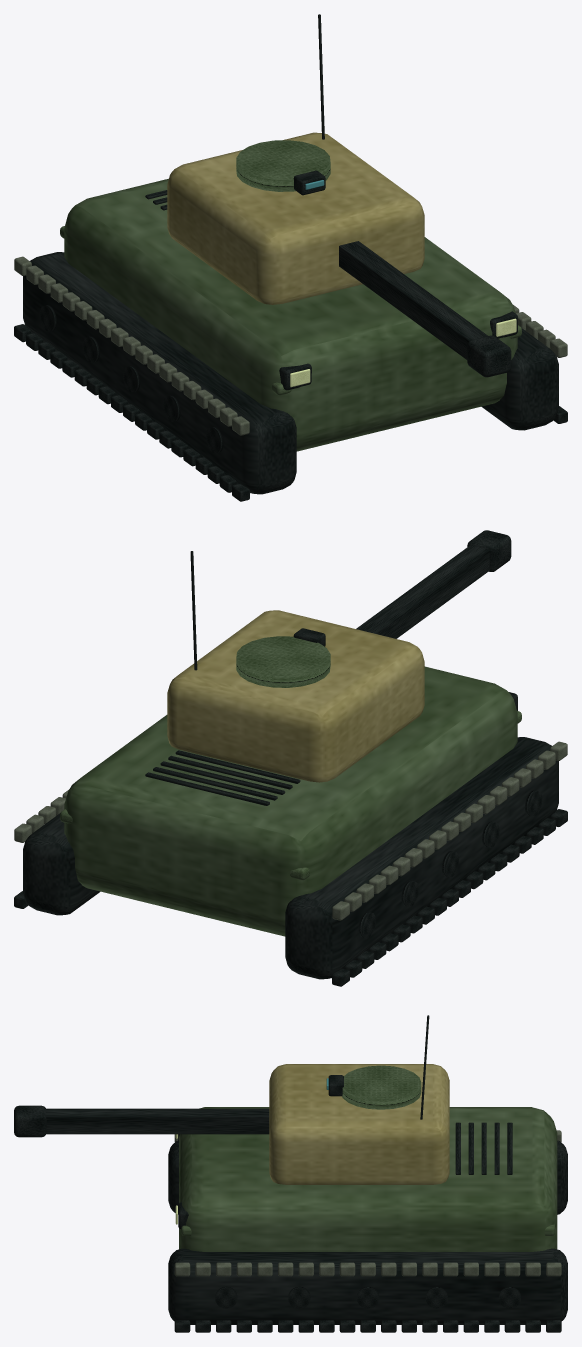
File: tank.glb
3 renders of one model, top to bottom at view 1: azimuth 30°, elevation 25°; view 2: azimuth 150°, elevation 25°; view 3: azimuth 270°, elevation 25°, orthographic. The views are drawn at different scales.
Parts seen in each view (by area): view 1: Hull, Turret, Track, Cannon, Track.001, Hatch, Muzzle brake; view 2: Hull, Turret, Track, Track.001, Cannon, Hatch, Muzzle brake, Engine grille.001, Engine grille.004, Engine grille.002, Engine grille.003, Engine grille.005; view 3: Hull, Track.001, Turret, Cannon, Hatch, Track, Muzzle brake, Wheel hub.005, Wheel hub.006, Wheel hub.007, Wheel hub.008, Wheel hub.009.
Part boxes in pixels (x1=…): Hull: x1=64, y1=178, x2=517, y2=451; Turret: x1=167, y1=132, x2=424, y2=304; Track: x1=23, y1=252, x2=296, y2=494; Cannon: x1=339, y1=241, x2=487, y2=359; Track.001: x1=481, y1=328, x2=558, y2=430; Hatch: x1=236, y1=140, x2=330, y2=191; Muzzle brake: x1=467, y1=335, x2=511, y2=377; Hull: x1=64, y1=666, x2=517, y2=936; Turret: x1=167, y1=610, x2=424, y2=782; Track: x1=285, y1=737, x2=558, y2=979; Track.001: x1=23, y1=813, x2=100, y2=915; Cannon: x1=356, y1=545, x2=489, y2=638; Hatch: x1=236, y1=636, x2=330, y2=687; Muzzle brake: x1=467, y1=530, x2=511, y2=571; Engine grille.001: x1=175, y1=750, x2=300, y2=783; Engine grille.004: x1=153, y1=767, x2=277, y2=800; Engine grille.002: x1=168, y1=755, x2=292, y2=789; Engine grille.003: x1=160, y1=761, x2=285, y2=794; Engine grille.005: x1=145, y1=772, x2=269, y2=805; Hull: x1=179, y1=1107, x2=557, y2=1251; Track.001: x1=168, y1=1248, x2=567, y2=1324; Turret: x1=269, y1=1064, x2=449, y2=1184; Cannon: x1=46, y1=1108, x2=269, y2=1134; Hatch: x1=342, y1=1065, x2=421, y2=1109; Track: x1=168, y1=1140, x2=567, y2=1214; Muzzle brake: x1=14, y1=1105, x2=46, y2=1137; Wheel hub.005: x1=215, y1=1286, x2=237, y2=1308; Wheel hub.006: x1=288, y1=1286, x2=310, y2=1308; Wheel hub.007: x1=357, y1=1286, x2=379, y2=1308; Wheel hub.008: x1=425, y1=1286, x2=447, y2=1308; Wheel hub.009: x1=498, y1=1286, x2=520, y2=1308.
Bounding box in the file's own units: 3.76 × 3.54 × 6.45.
6 materials, 5 textured.
